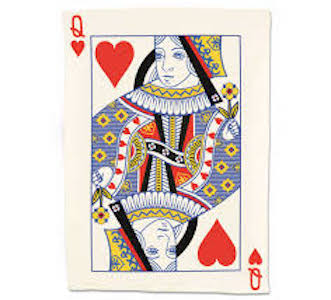QueenOfHearts: (61, 5, 278, 297)
